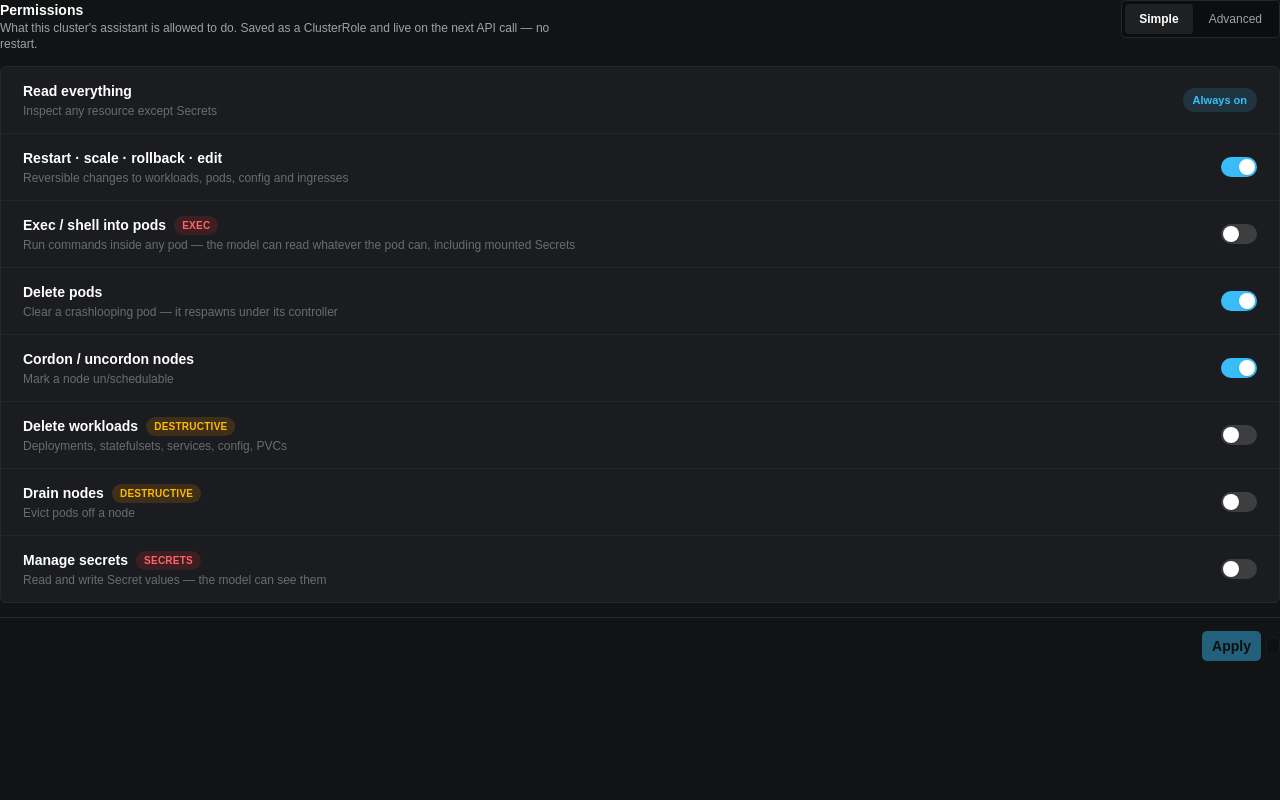
PermissionsTab › Apply opens the ReviewDialog showing the diff and the active cluster
Expected: the text "Read everything" is shown, top-left (23, 81), bottom-right (132, 101)
Click the switch named "delete workloads": (1239, 435) top-left (1221, 425), bottom-right (1257, 445)
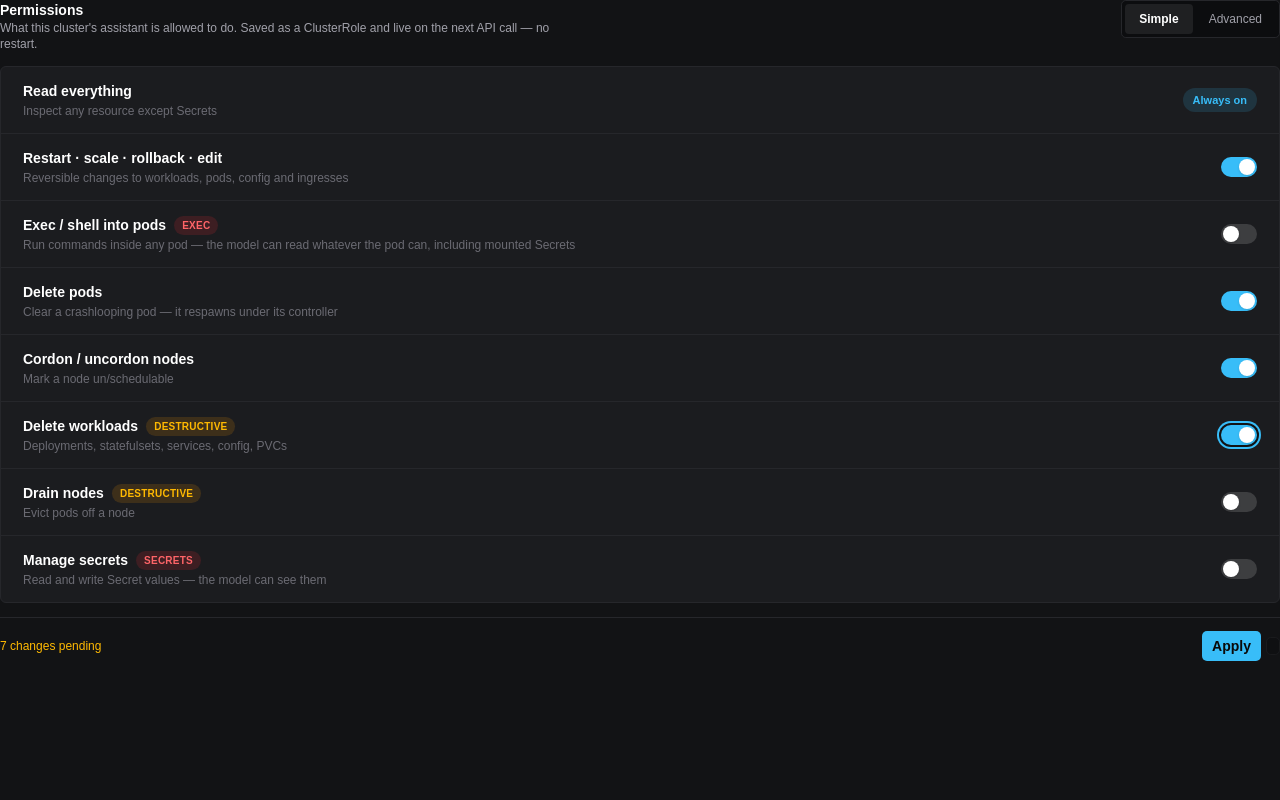
Click the button "Apply": (1232, 646) top-left (1201, 630), bottom-right (1262, 662)
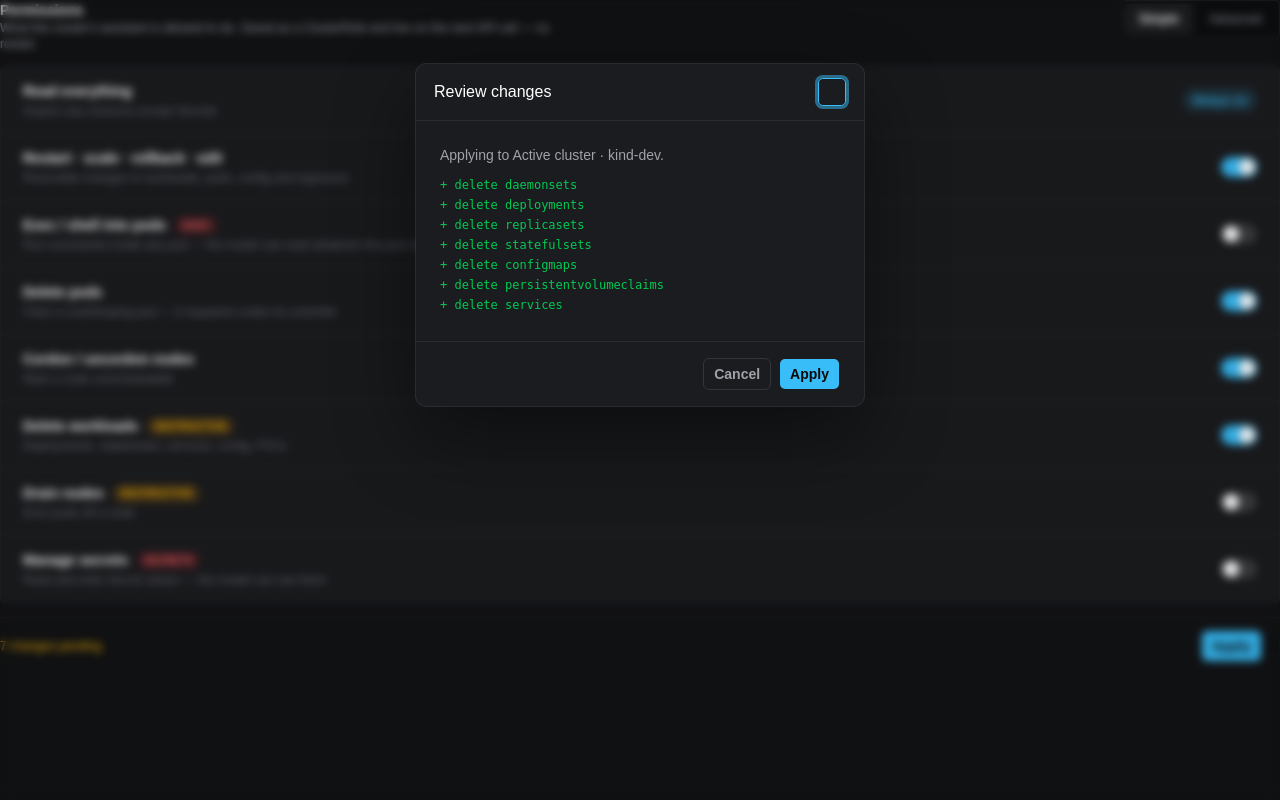
Now the heading "Review changes" is shown, box top-left (434, 84), bottom-right (551, 100)
Now the text "Applying to Active cluster · kind-dev." is shown, box top-left (440, 147), bottom-right (664, 163)
